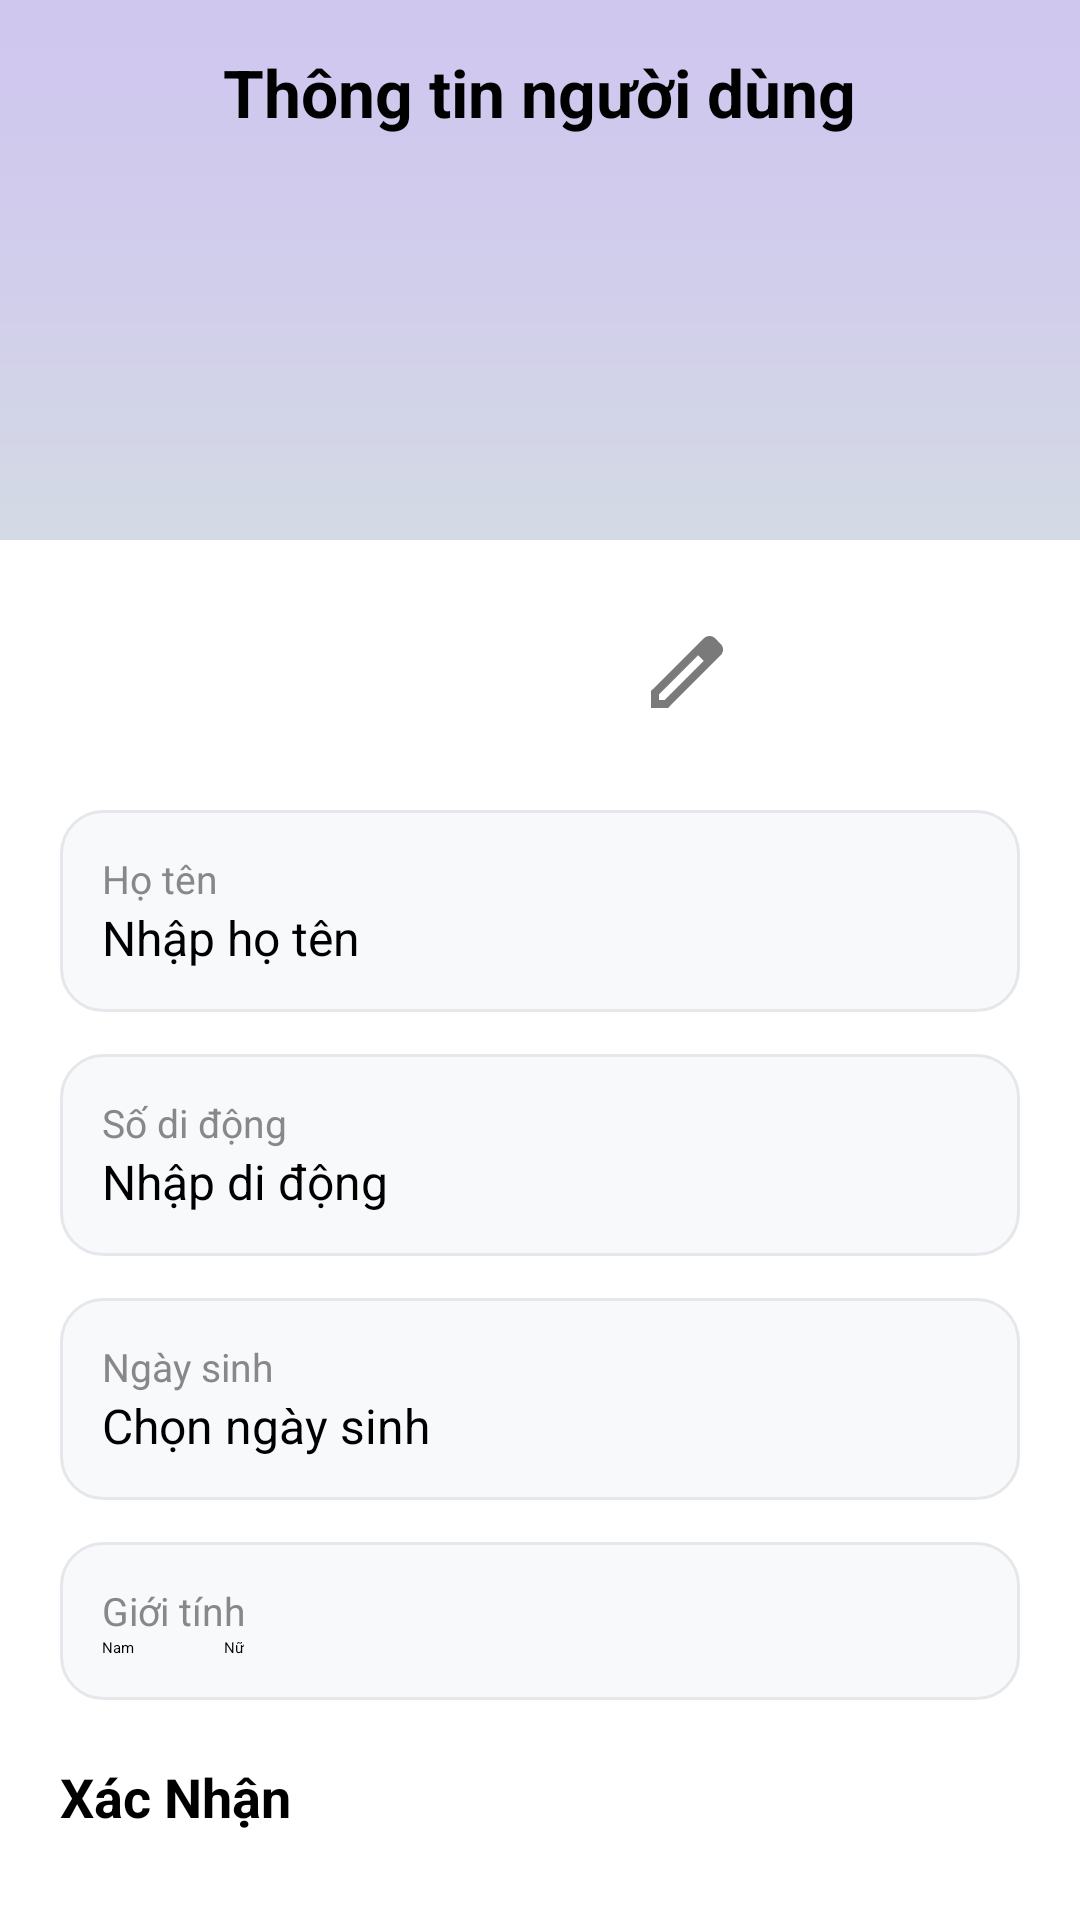

Point at icon controls on the screen. Image size 1080px x 1920px, points as (x,y).
edit: (687,672)
